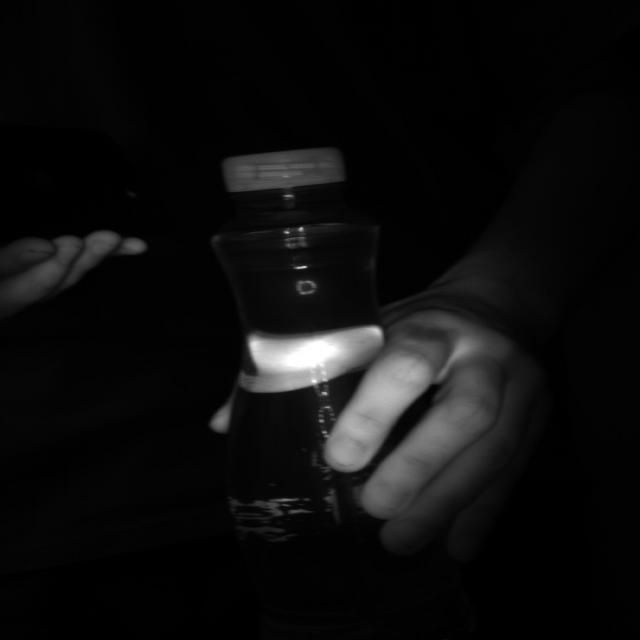Good: (223, 148, 347, 197)
